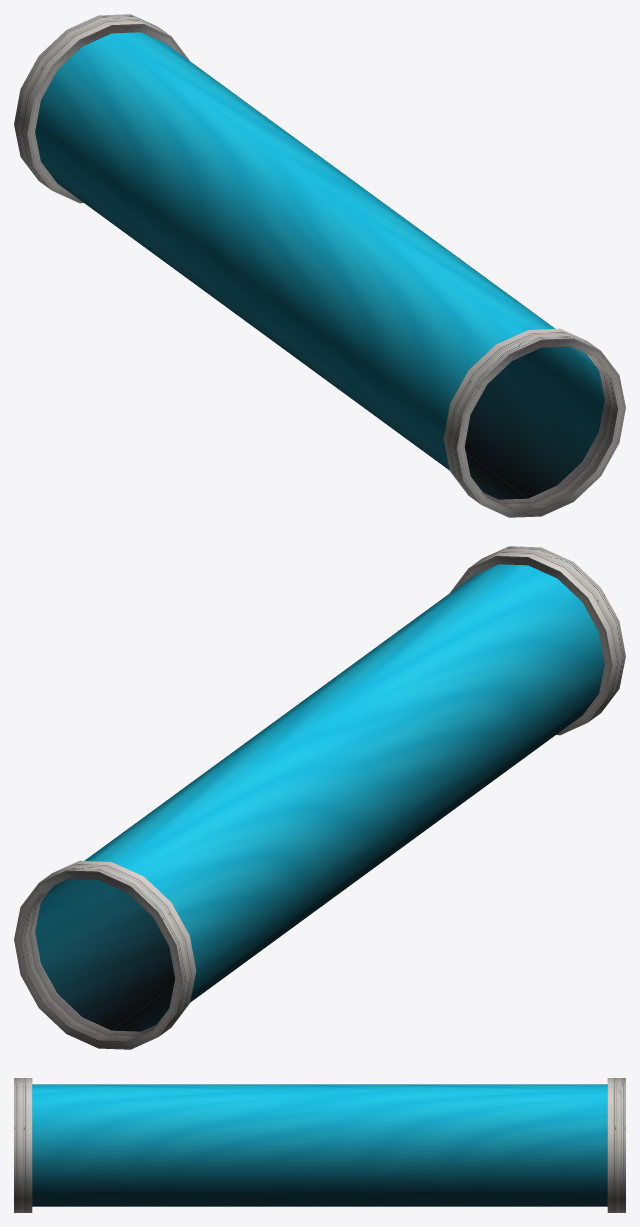
The model's file is SkyCityTube1.dae.
The picture shows the model from 3 angles, top to bottom: view 1: azimuth 30°, elevation 25°; view 2: azimuth 150°, elevation 25°; view 3: azimuth 270°, elevation 25°; orthographic projection. The views are drawn at different scales.
Visible parts, largest first — view 1: S_Cylinder1_copy2-0-glass-fx, S_Cylinder1_copy2-0-trim-fx; view 2: S_Cylinder1_copy2-0-glass-fx, S_Cylinder1_copy2-0-trim-fx; view 3: S_Cylinder1_copy2-0-glass-fx, S_Cylinder1_copy2-0-trim-fx.
Part boxes in pixels (x1,y1,x2,y2): S_Cylinder1_copy2-0-glass-fx: [35, 32, 604, 499]; S_Cylinder1_copy2-0-trim-fx: [14, 14, 625, 517]; S_Cylinder1_copy2-0-glass-fx: [35, 564, 604, 1031]; S_Cylinder1_copy2-0-trim-fx: [14, 546, 625, 1049]; S_Cylinder1_copy2-0-glass-fx: [32, 1084, 607, 1206]; S_Cylinder1_copy2-0-trim-fx: [14, 1078, 625, 1212].
Size of the model in its own units: 4.41 by 4.41 by 20.
